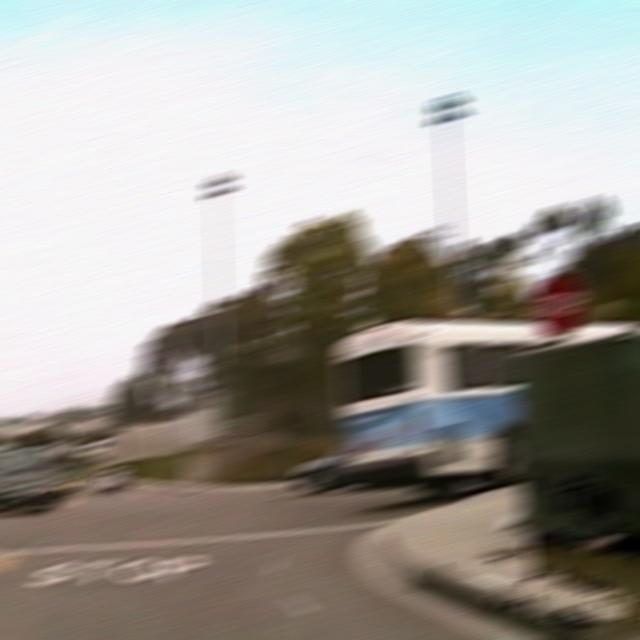stop_sign: (530, 272, 588, 335)
